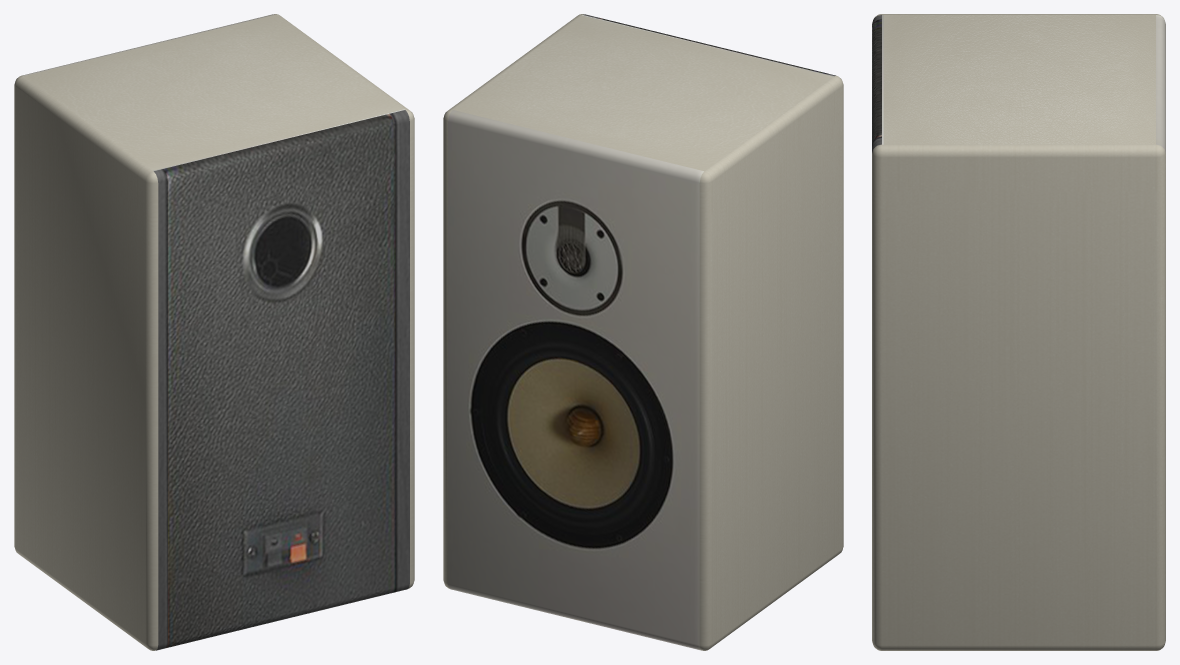
The model's file is Loudspeaker04b.FBX.
3 views of the same model, side by side, from view 1: azimuth 30°, elevation 25°; view 2: azimuth 150°, elevation 25°; view 3: azimuth 270°, elevation 25° (orthographic). The views are drawn at different scales.
Visible parts, largest first — view 1: Loudspeaker04b; view 2: Loudspeaker04b; view 3: Loudspeaker04b.
Boxes of the visible parts, x1,y1,x2,y2 form: Loudspeaker04b: (14,14,414,650); Loudspeaker04b: (443,14,843,650); Loudspeaker04b: (872,14,1165,650).
Bounding box in the file's own units: 18.85 × 32.2 × 16.96.
